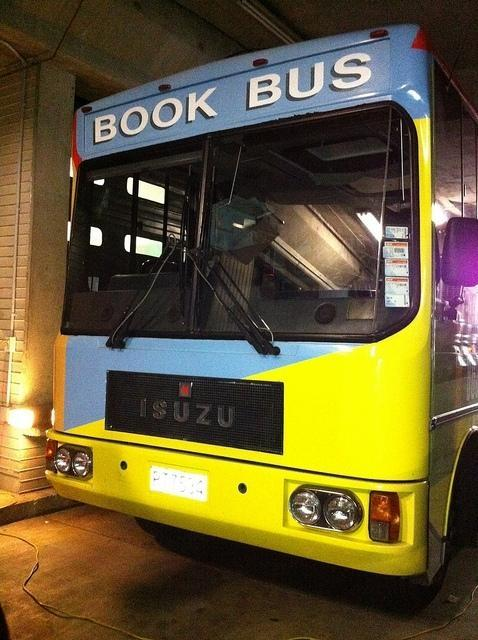bus: (56, 6, 478, 602)
